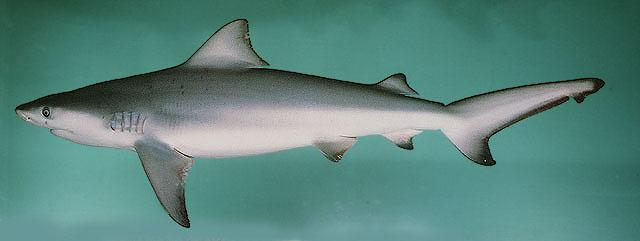Mulut: (38, 118, 78, 156)
Sirip Anal: (378, 64, 430, 162)
Sirip Dada: (134, 134, 200, 230)
Sirip Ekor: (445, 71, 621, 172)
Sirip Perut: (313, 130, 359, 174)
Sirip Punggung: (181, 15, 275, 79)
